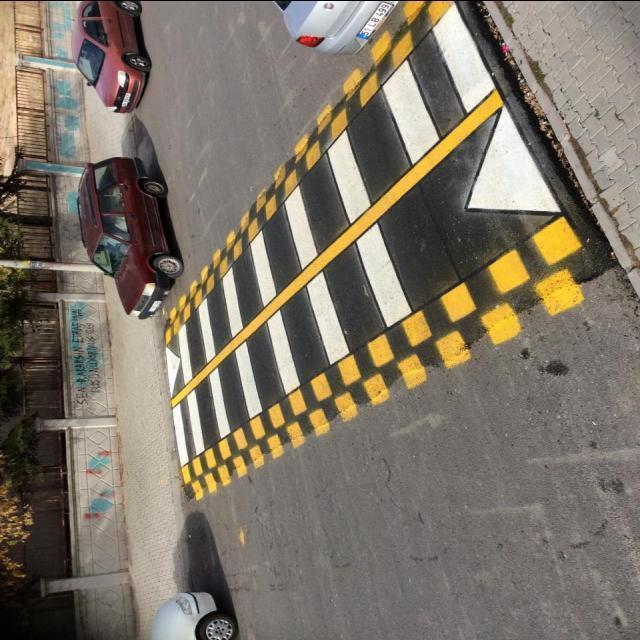speedbreaker: (159, 8, 622, 502)
